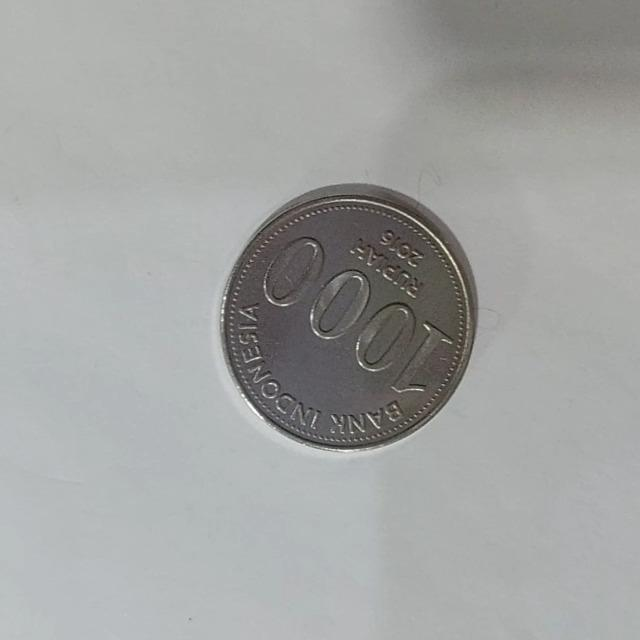Rp100: (217, 181, 479, 453)
